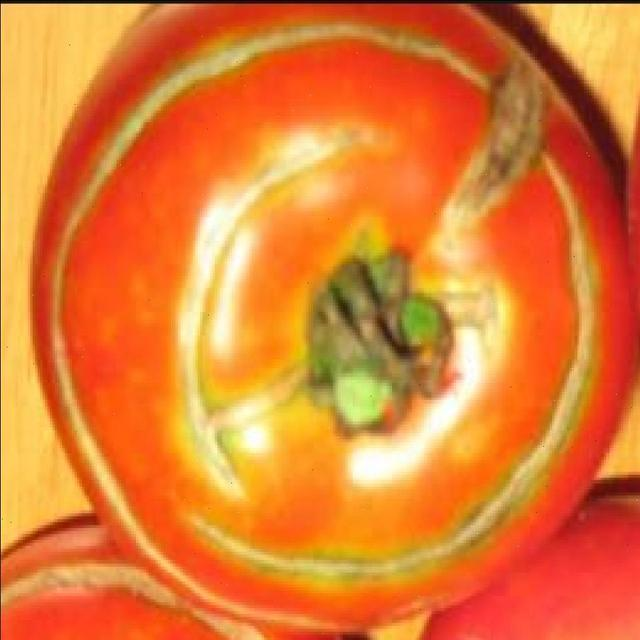Cracking Fruit: (120, 214, 376, 405)
